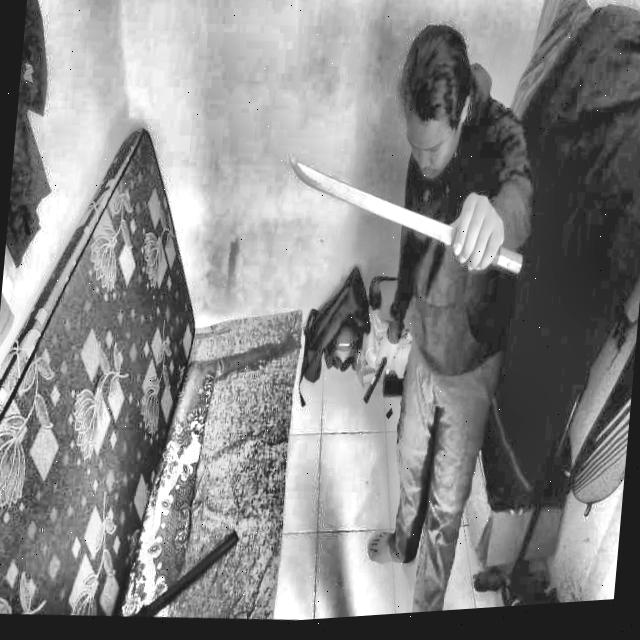pisau: (270, 135, 552, 306)
